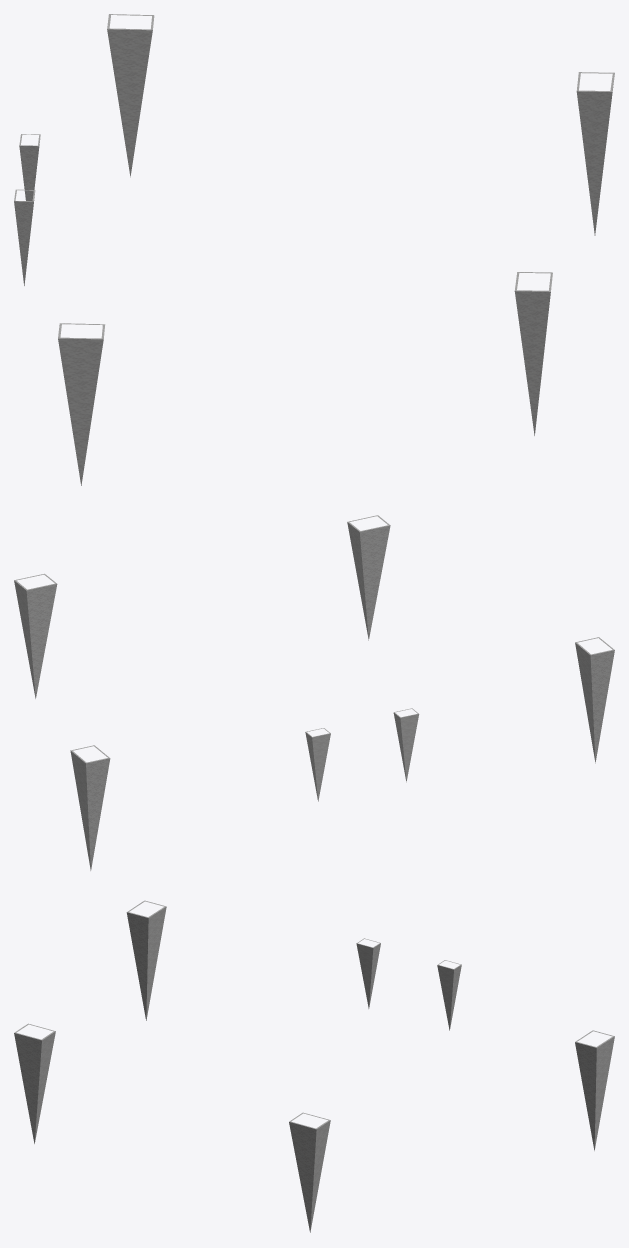
File: kd_stage_1364a3_13_11.glb
The picture shows the model from 3 angles, top to bottom: view 1: azimuth 30°, elevation 25°; view 2: azimuth 150°, elevation 25°; view 3: azimuth 270°, elevation 25°; orthographic projection. The views are drawn at different scales.
Parts seen in each view (by area): view 1: kd_stage_1364a3_13_11; view 2: kd_stage_1364a3_13_11; view 3: kd_stage_1364a3_13_11.
Part boxes in pixels (x1,y1,x2,y2): kd_stage_1364a3_13_11: (14,14,614,485); kd_stage_1364a3_13_11: (14,515,614,870); kd_stage_1364a3_13_11: (14,900,614,1232).
Bounding box in the file's own units: 33.51 × 8.23 × 35.57.
1 material, 1 textured.
